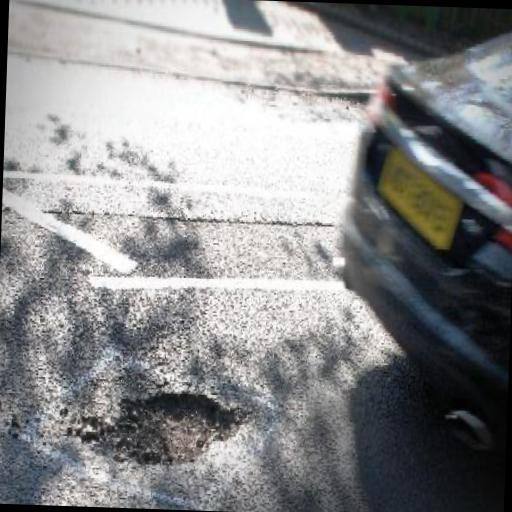pothole: (85, 385, 253, 471), (326, 88, 374, 110)
